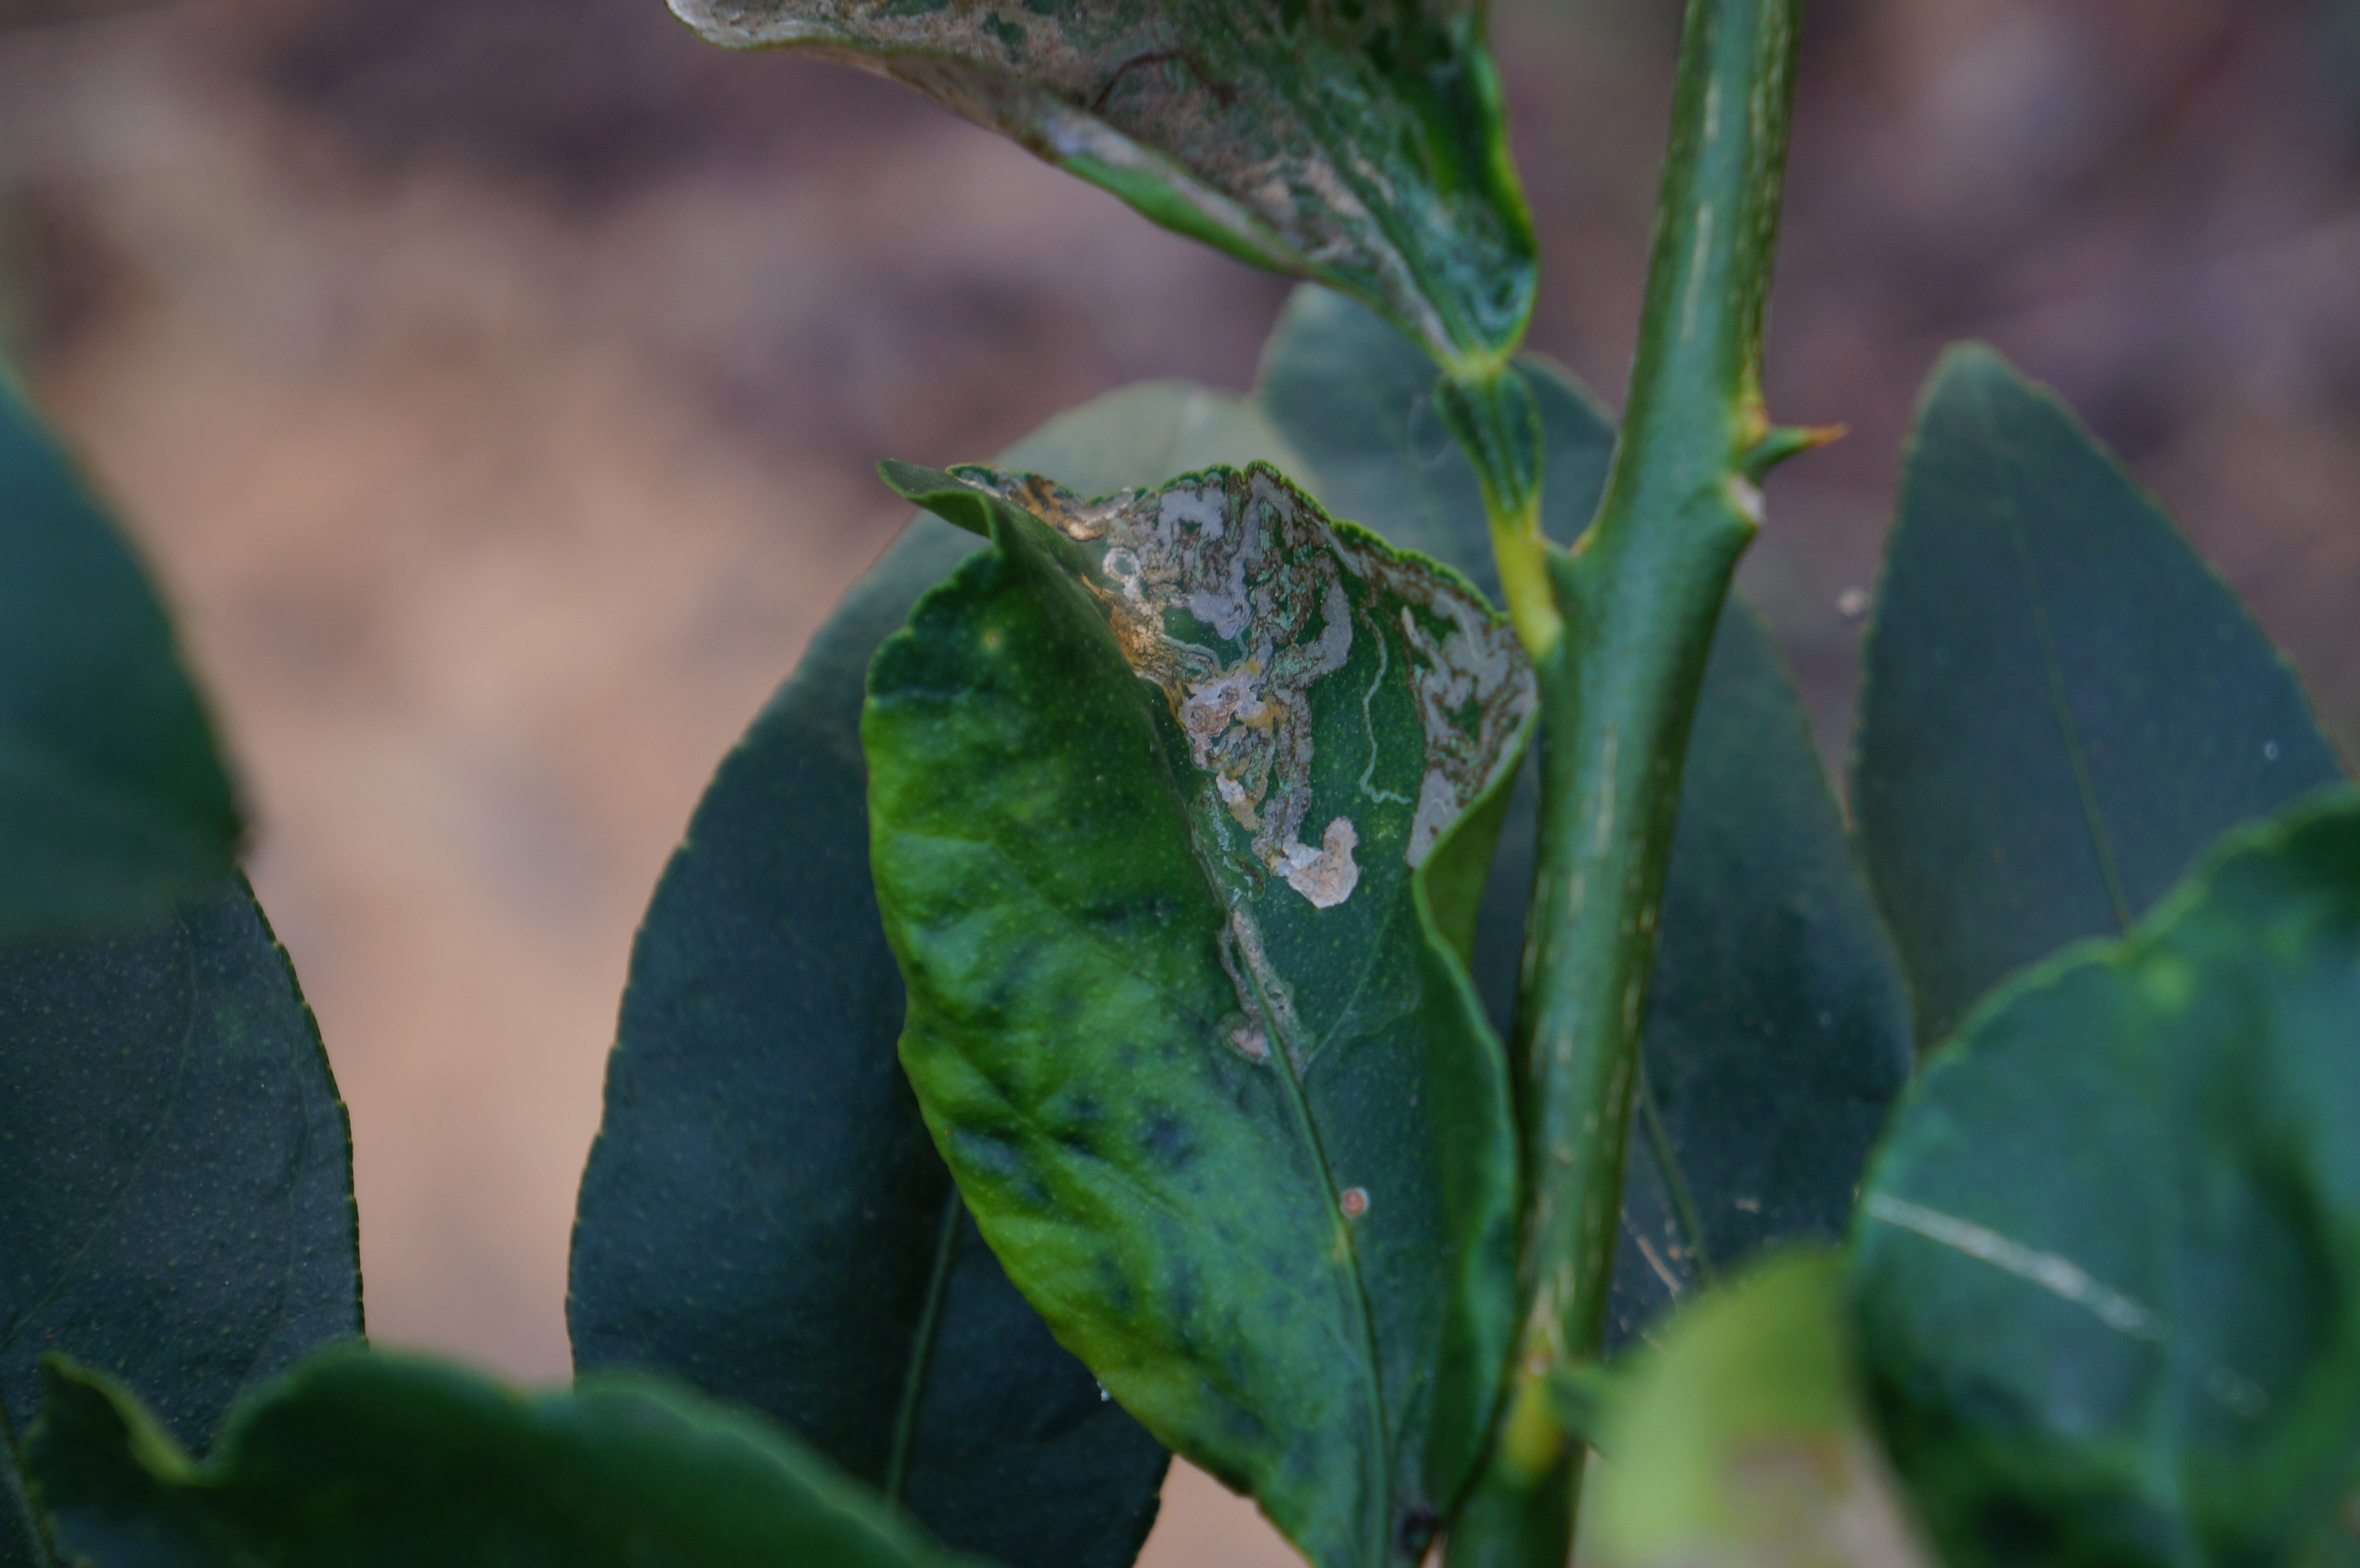damage: (1013, 450, 1405, 929)
